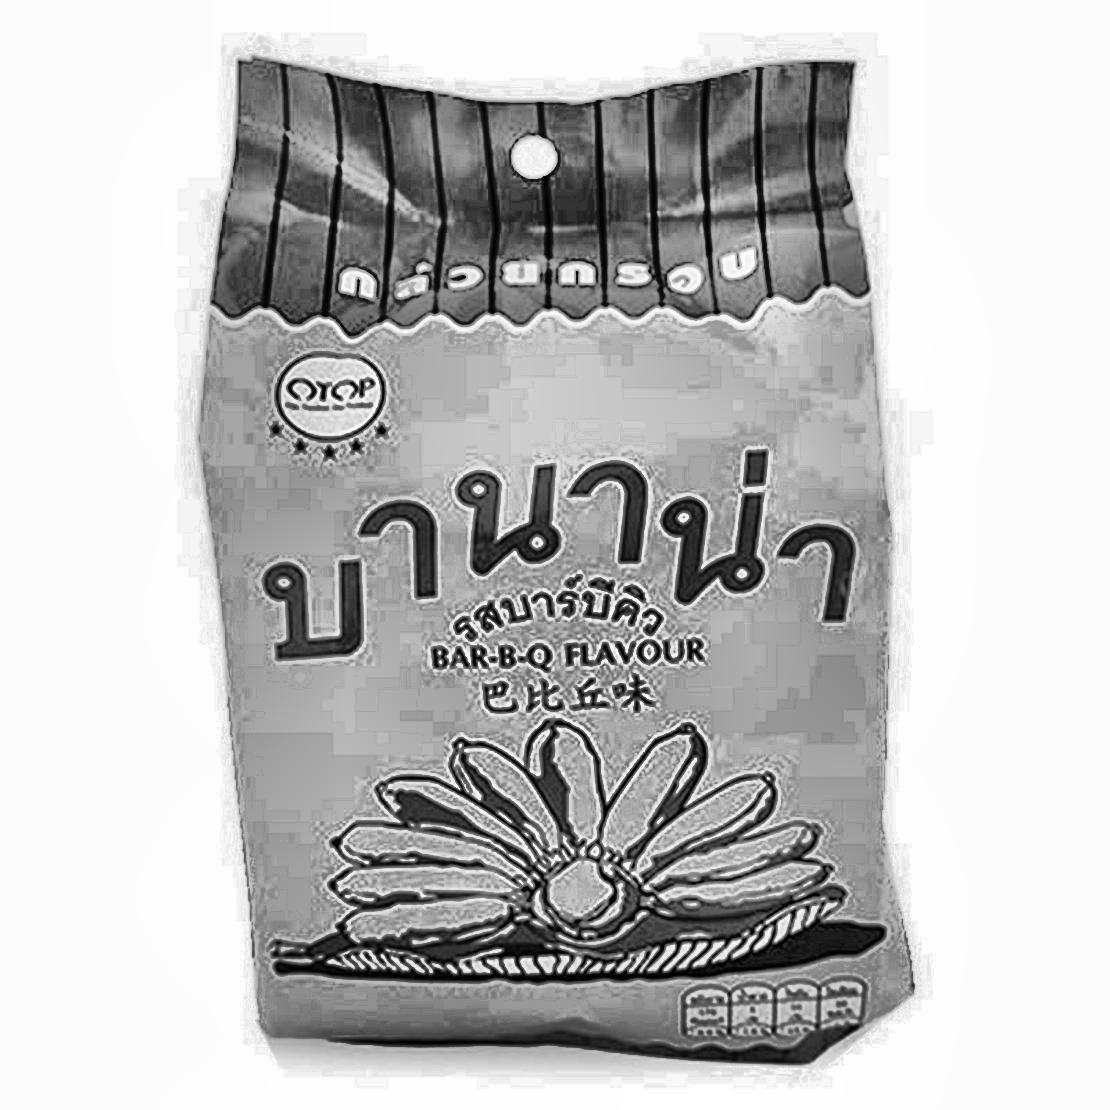snackbag: (136, 30, 964, 1081)
